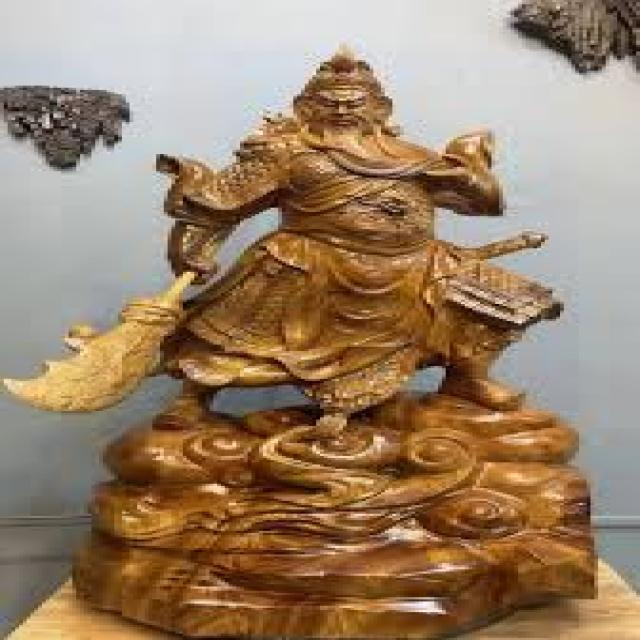Guan Yu: (104, 43, 560, 485)
